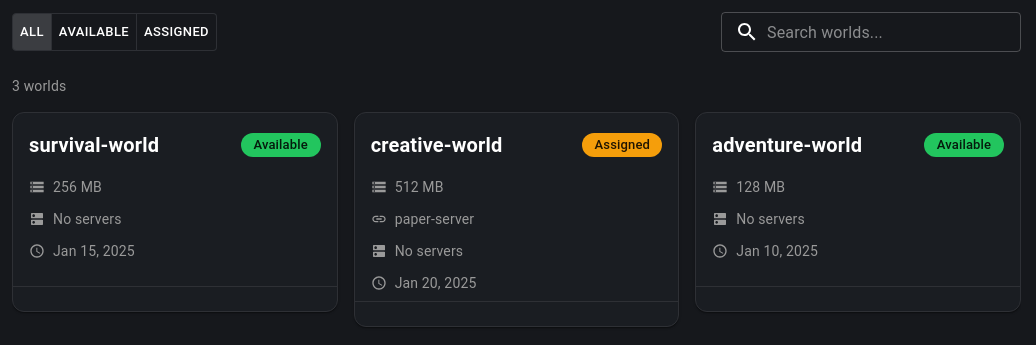
it: WorldList › should filter worlds by available status
This screenshot has width=1036, height=345.
Click the button "Available".
click(94, 32)  # box [51,13,137,51]
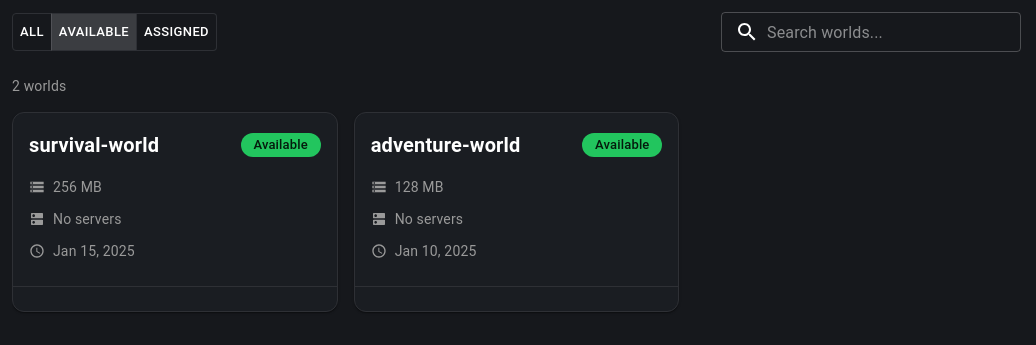
Expected: the heading "survival-world" is shown, [29,133,159,157]
Expected: the heading "creative-world" is gone
